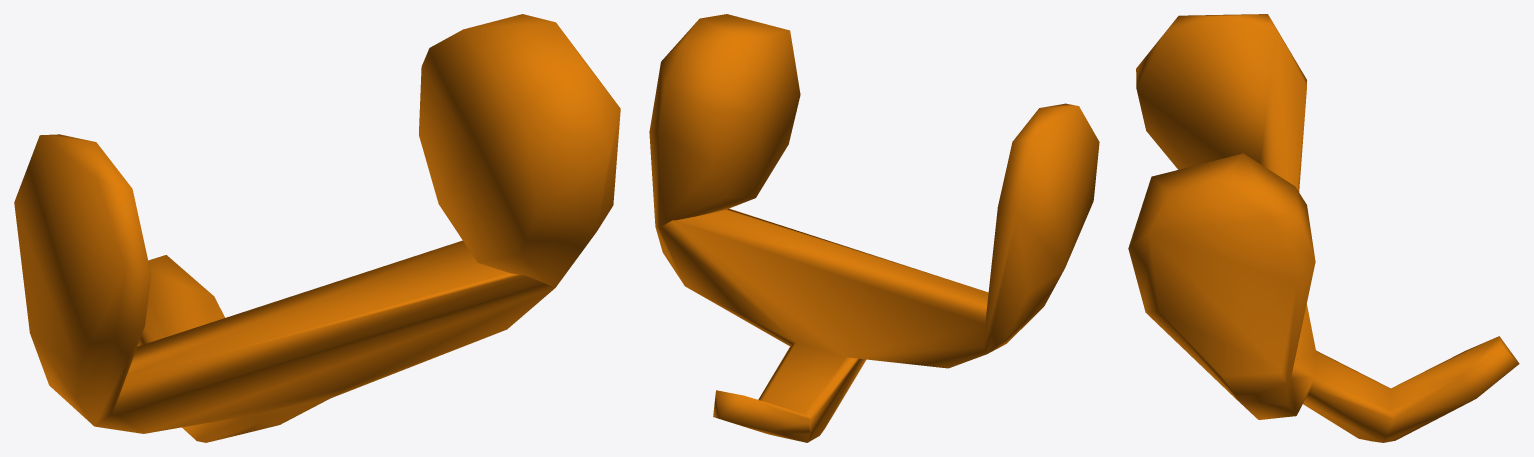
Rendered from gripper_motor_single_collision.glb.
3 renders of one model, left to right at view 1: azimuth 30°, elevation 25°; view 2: azimuth 150°, elevation 25°; view 3: azimuth 270°, elevation 25°, orthographic. The views are drawn at different scales.
Visible parts, largest first — view 1: node; view 2: node; view 3: node.
Boxes of the visible parts, x1=… form: node: x1=14, y1=14, x2=620, y2=442; node: x1=649, y1=14, x2=1099, y2=442; node: x1=1128, y1=14, x2=1519, y2=442.
Size of the model in its own units: 0.1058 by 0.086 by 0.0924.
